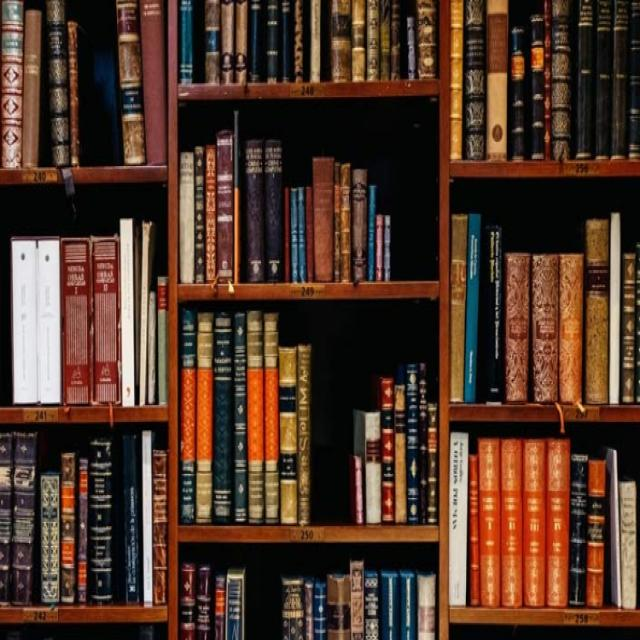notebook: (12, 14, 621, 604), (506, 233, 530, 404)
